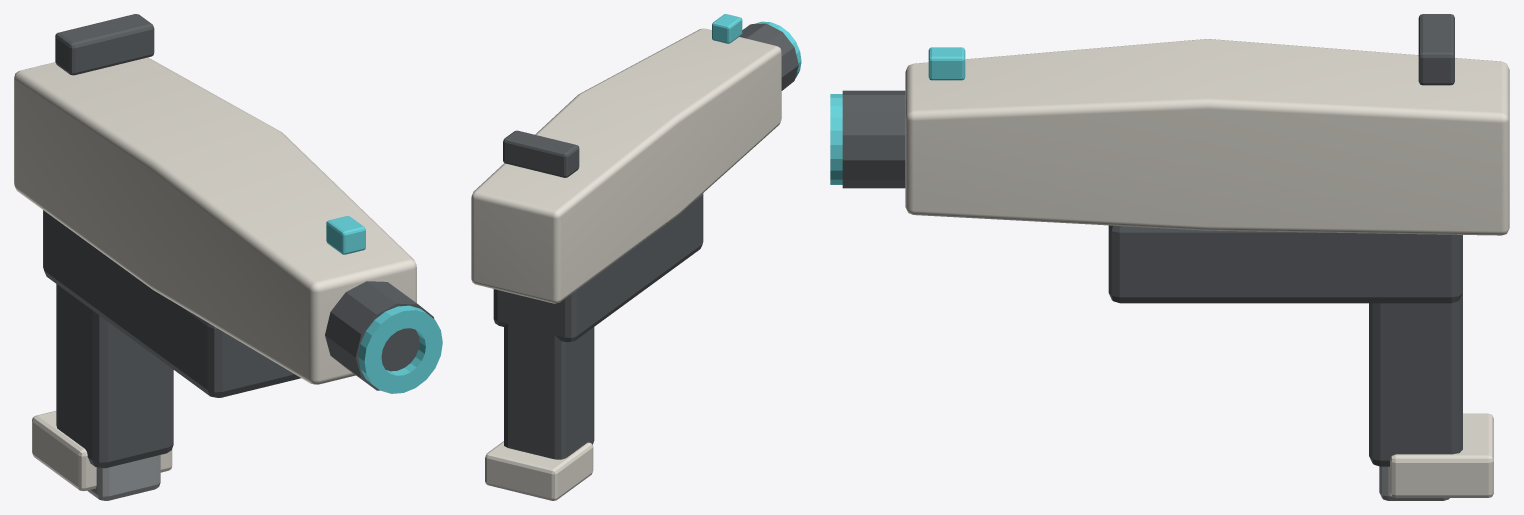
The model's file is LaserPistol.fbx.
3 renders of one model, left to right at view 1: azimuth 30°, elevation 25°; view 2: azimuth 150°, elevation 25°; view 3: azimuth 270°, elevation 25°, orthographic. The views are drawn at different scales.
Visible parts, largest first — view 1: PistolSlide, PalmGrip, LowerFrame, PistolEmitter, EmitterSignal, RearSight, GripHeel, PowerCell, FrontSight; view 2: PistolSlide, PalmGrip, LowerFrame, GripHeel, RearSight, PistolEmitter, FrontSight; view 3: PistolSlide, LowerFrame, PalmGrip, PistolEmitter, GripHeel, RearSight, FrontSight, EmitterSignal.
Part boxes in pixels (x1,y1,x2,y2): PistolSlide: [14, 57, 416, 384]; PalmGrip: [56, 284, 173, 468]; LowerFrame: [43, 210, 300, 397]; PistolEmitter: [325, 281, 434, 390]; EmitterSignal: [358, 305, 442, 393]; RearSight: [55, 14, 154, 75]; GripHeel: [32, 411, 172, 491]; PowerCell: [87, 455, 160, 500]; FrontSight: [326, 216, 365, 254]; PistolSlide: [471, 28, 781, 303]; PalmGrip: [504, 293, 594, 459]; LowerFrame: [493, 193, 703, 342]; GripHeel: [485, 441, 593, 500]; RearSight: [503, 130, 579, 177]; PistolEmitter: [739, 23, 798, 90]; FrontSight: [712, 14, 742, 43]; PistolSlide: [905, 39, 1509, 235]; LowerFrame: [1108, 225, 1462, 303]; PalmGrip: [1369, 293, 1462, 466]; PistolEmitter: [842, 90, 905, 188]; GripHeel: [1390, 413, 1493, 497]; RearSight: [1418, 14, 1454, 85]; FrontSight: [928, 47, 965, 80]; EmitterSignal: [830, 94, 842, 184].
Size of the model in its own units: 0.15 by 0.4825 by 0.652.
